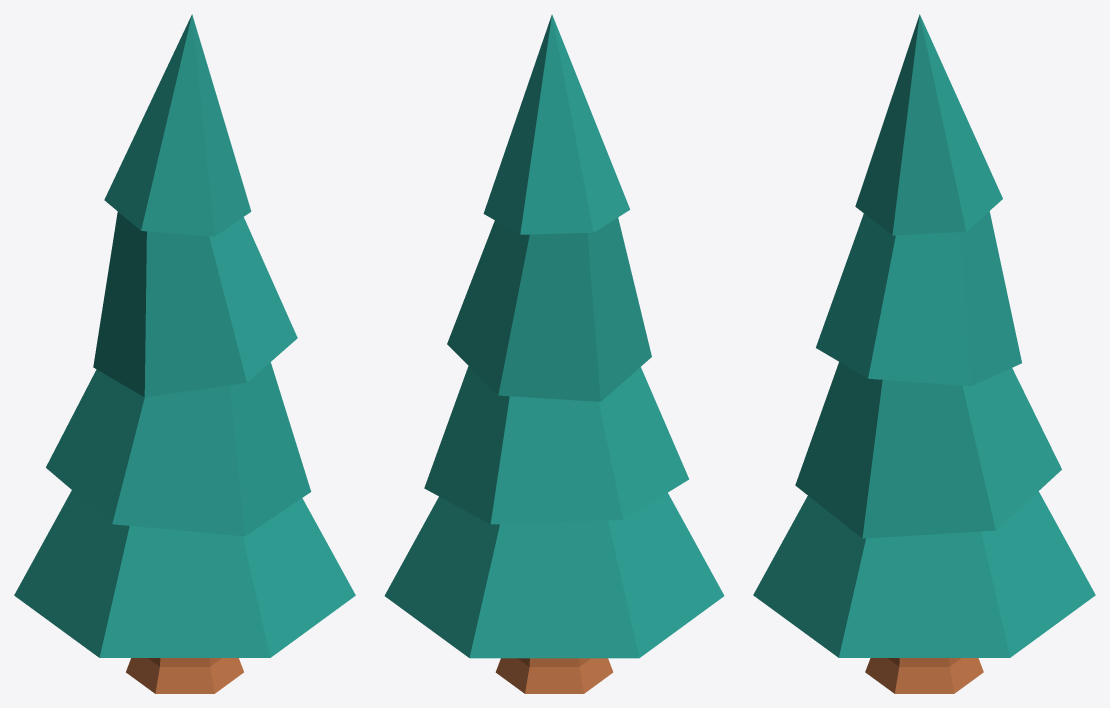
The model's file is treePine.dae.
3 renders of one model, left to right at view 1: azimuth 30°, elevation 25°; view 2: azimuth 150°, elevation 25°; view 3: azimuth 270°, elevation 25°, orthographic.
Visible parts, largest first — view 1: treePine; view 2: treePine; view 3: treePine.
Boxes of the visible parts, bbox=[...] form: treePine: bbox=[14, 14, 355, 693]; treePine: bbox=[384, 14, 724, 693]; treePine: bbox=[753, 14, 1095, 693].
Bounding box in the file's own units: 0.651 × 1.6 × 0.7517.
